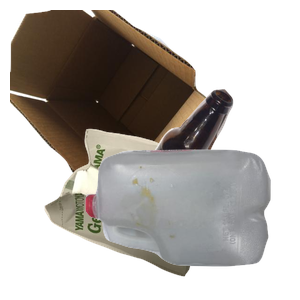cardboard: (10, 10, 218, 190)
glass: (130, 87, 300, 267)
plastic: (83, 147, 300, 300)
trash: (42, 126, 249, 300)
